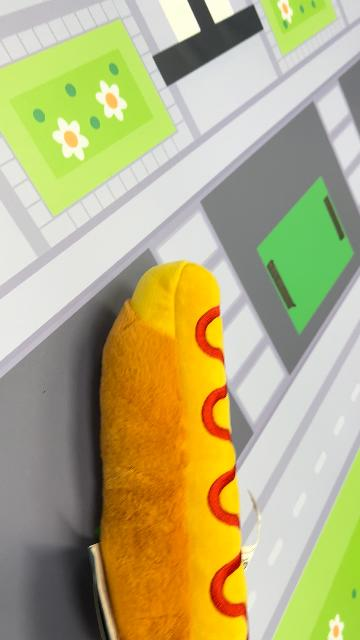hotdog: (97, 259, 251, 639)
